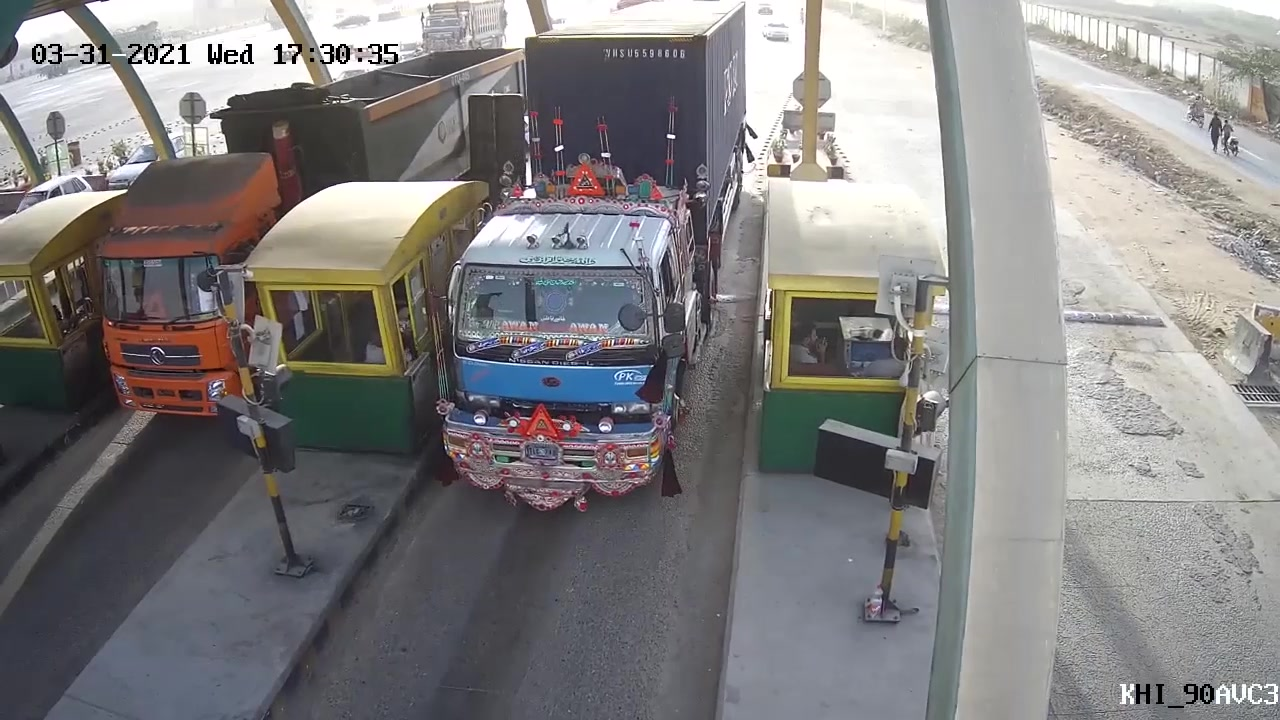F6: (427, 5, 753, 514)
